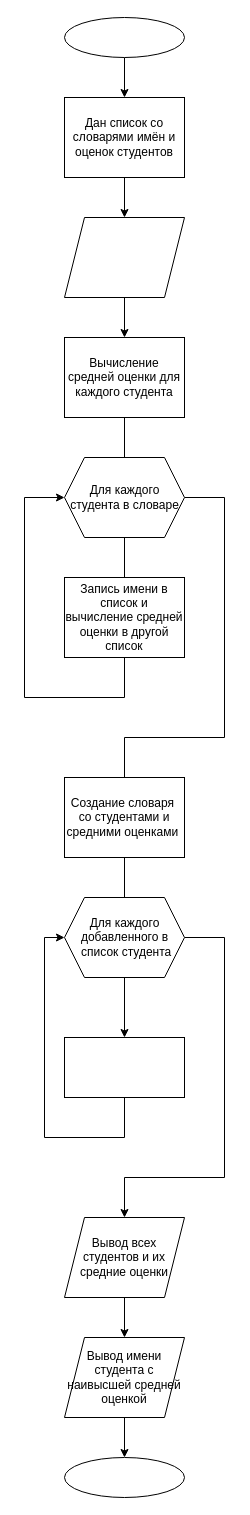
The diagram is 250 pixels wide and 1515 high, and some of its shapes have lost their labels. The centre of each missing label's shape, as x and y in pixels:
Вывод списка словарей: the point at 124,257
Добавление имени и соответствующую оценку студента в словарь: the point at 124,1067
Конец: the point at 124,1477
Начало: the point at 124,37
